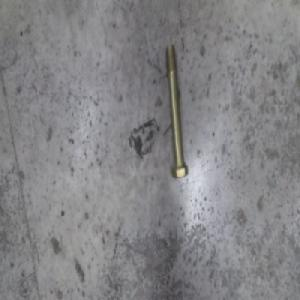Bolt: (162, 39, 188, 172)
